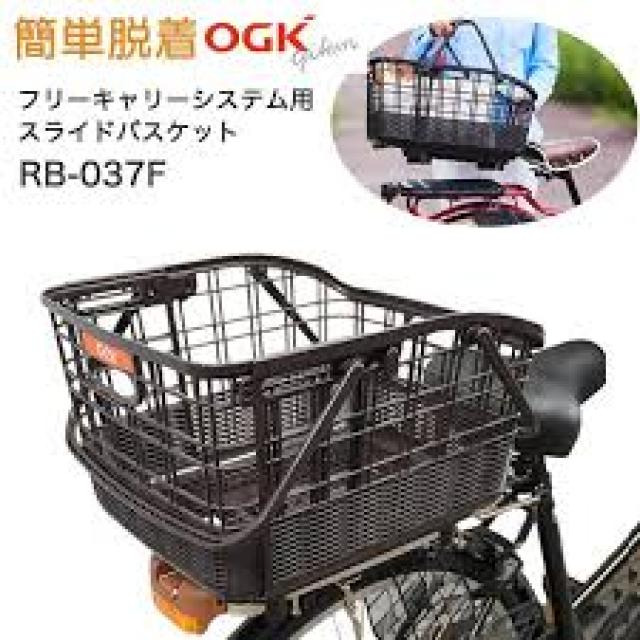basket: (42, 254, 540, 596), (363, 55, 532, 161)
